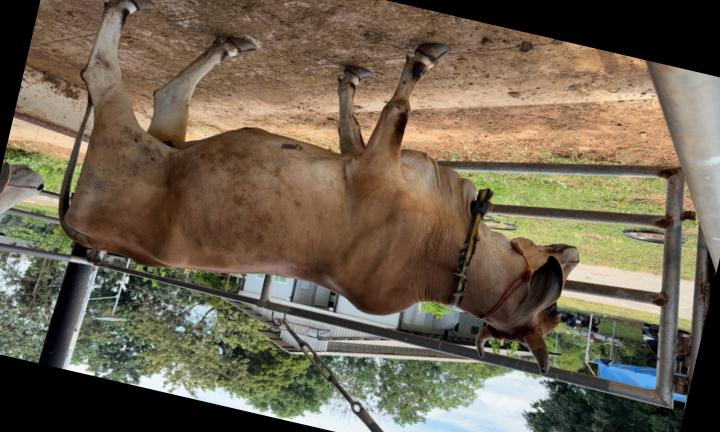Brahman: (60, 0, 578, 374)
